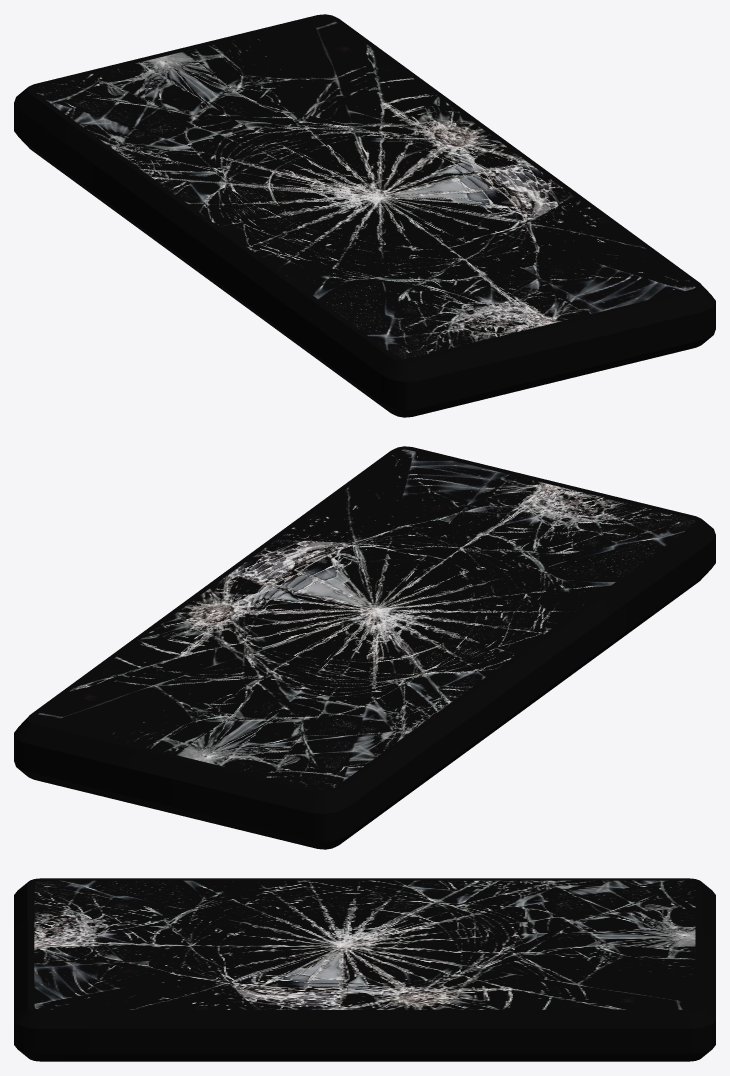
Rendered from phone.fbx.
3 views of the same model, one above another, from view 1: azimuth 30°, elevation 25°; view 2: azimuth 150°, elevation 25°; view 3: azimuth 270°, elevation 25° (orthographic). The views are drawn at different scales.
Parts seen in each view (by area): view 1: Cube; view 2: Cube; view 3: Cube.
Boxes of the visible parts, x1,y1,x2,y2 form: Cube: [14, 14, 715, 417]; Cube: [14, 446, 715, 849]; Cube: [14, 878, 715, 1061].
Bounding box in the file's own units: 96.58 × 15.52 × 200.
